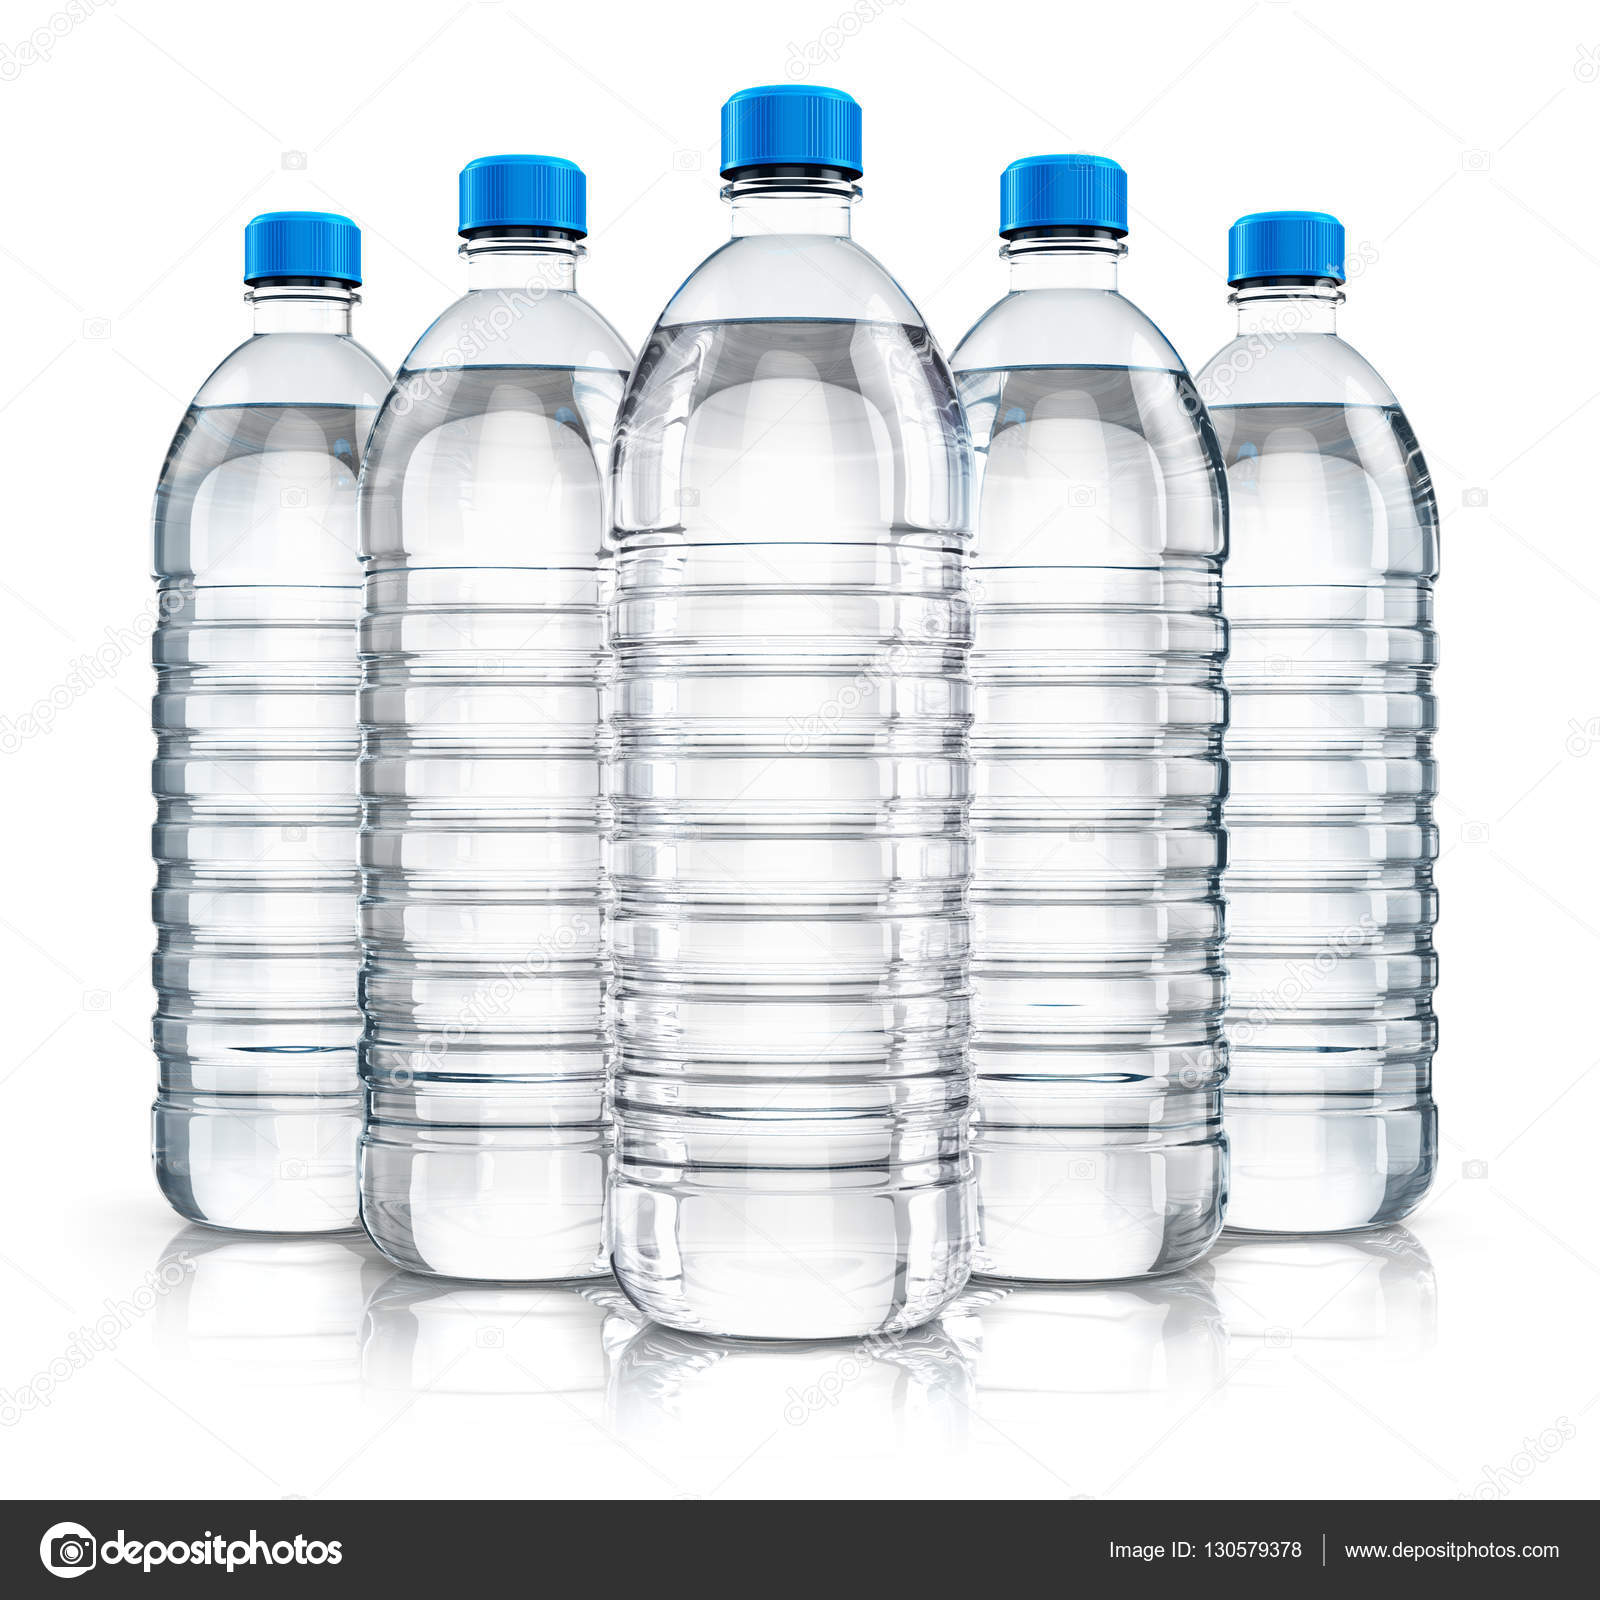PlasticBottle: (608, 73, 949, 1349), (1174, 207, 1449, 1253), (144, 198, 363, 1235)
